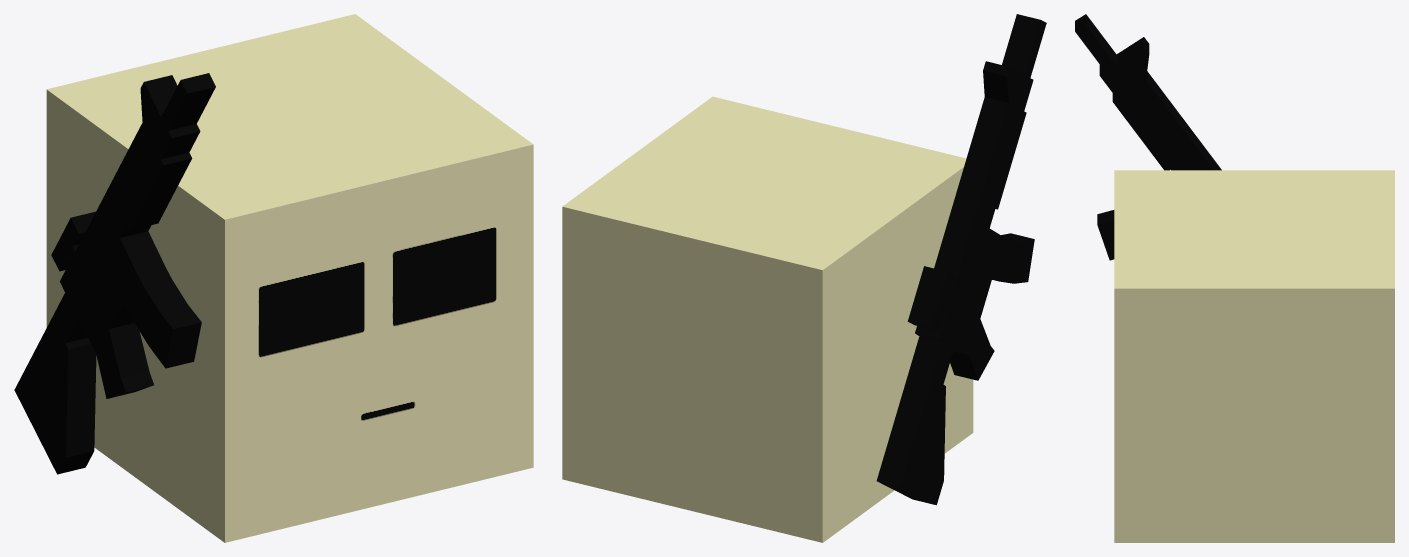
Rendered from Soldier.glb.
3 renders of one model, left to right at view 1: azimuth 30°, elevation 25°; view 2: azimuth 150°, elevation 25°; view 3: azimuth 270°, elevation 25°, orthographic. The views are drawn at different scales.
Parts seen in each view (by area): view 1: Cube, Plane; view 2: Cube, Plane; view 3: Cube, Plane.
Boxes of the visible parts, left/top/right/bottom form: Cube: left=46, top=14, right=533, bottom=542; Plane: left=14, top=73, right=215, bottom=474; Cube: left=562, top=96, right=973, bottom=542; Plane: left=876, top=14, right=1046, bottom=505; Cube: left=1114, top=170, right=1394, bottom=542; Plane: left=1075, top=14, right=1221, bottom=260.
Size of the model in its own units: 4.81 by 6.08 by 4.56.
3 materials, 2 textured.
